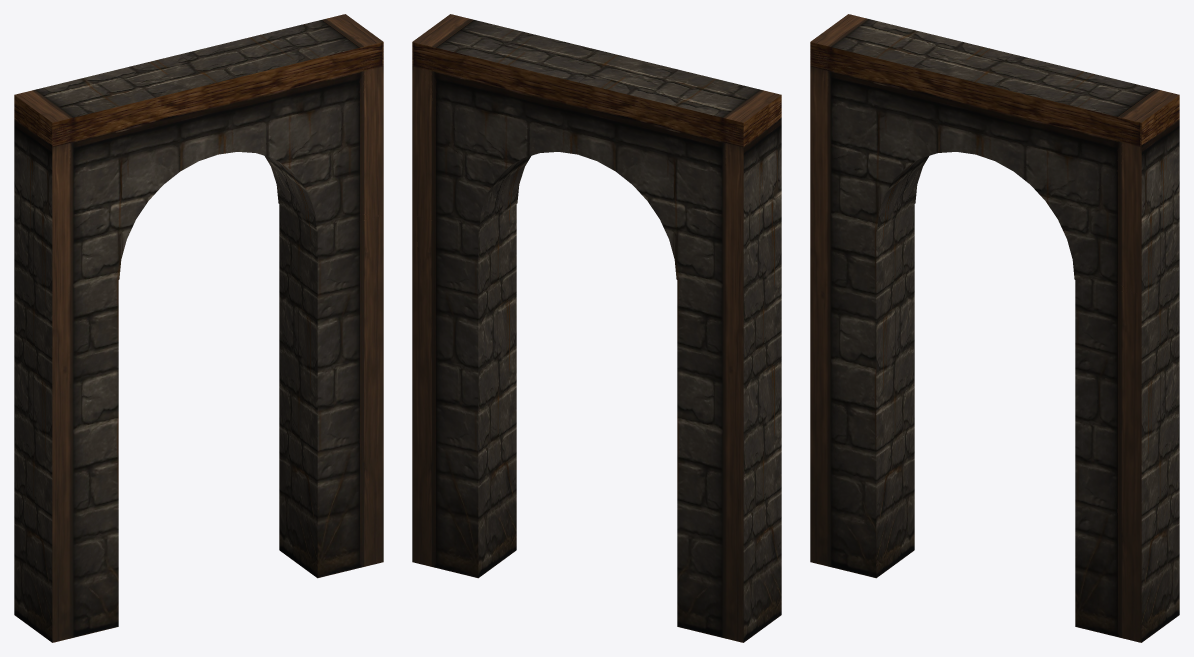
File: blk_gate2.glb
3 renders of one model, left to right at view 1: azimuth 30°, elevation 25°; view 2: azimuth 150°, elevation 25°; view 3: azimuth 330°, elevation 25°, orthographic.
Visible parts, largest first — view 1: Cube.002; view 2: Cube.002; view 3: Cube.002.
Part boxes in pixels (x1,y1,x2,y2): Cube.002: [14, 14, 383, 642]; Cube.002: [412, 14, 781, 642]; Cube.002: [810, 14, 1179, 642].
Bounding box in the file's own units: 2 × 3 × 0.4.
Materials: 1 (1 with a texture image).
